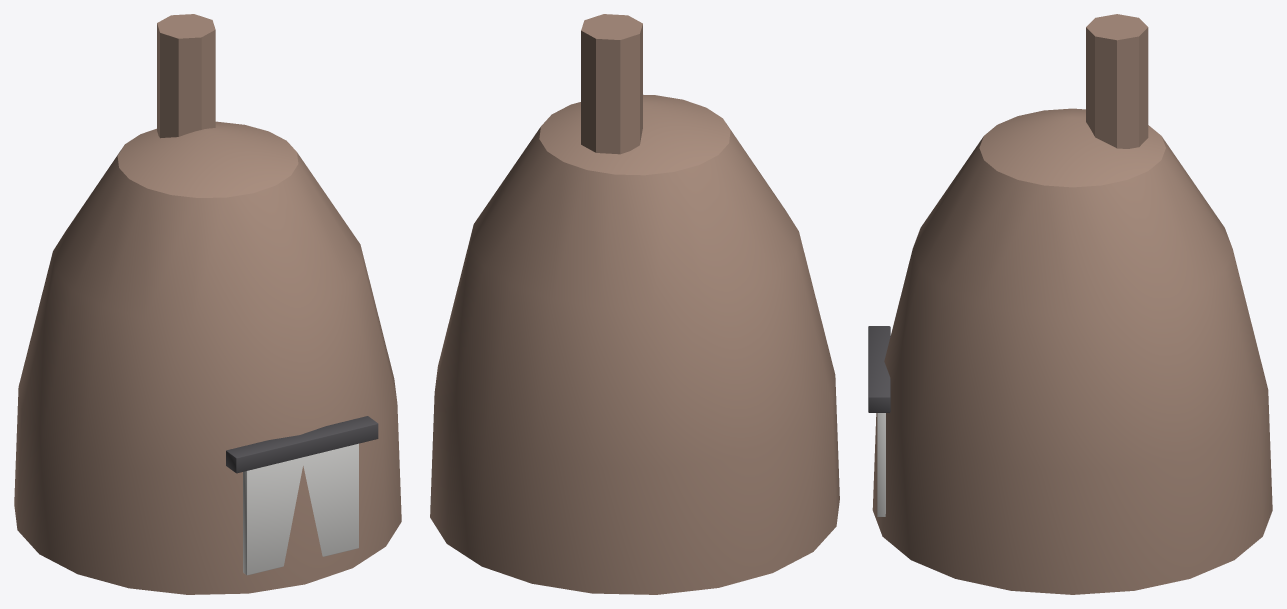
The model's file is perk_backdraft.gltf.
The picture shows the model from 3 angles, left to right: view 1: azimuth 30°, elevation 25°; view 2: azimuth 150°, elevation 25°; view 3: azimuth 270°, elevation 25°; orthographic projection. The views are drawn at different scales.
Parts seen in each view (by area): view 1: Body, Glow; view 2: Body; view 3: Body, Glow.
Part boxes in pixels (box(x1,y1,x2,y2)): Body: box(14, 14, 401, 594); Glow: box(243, 443, 358, 575); Body: box(430, 14, 839, 594); Body: box(868, 14, 1272, 594); Glow: box(877, 413, 885, 516).
Size of the model in its own units: 1.8 by 2.4 by 1.82.
